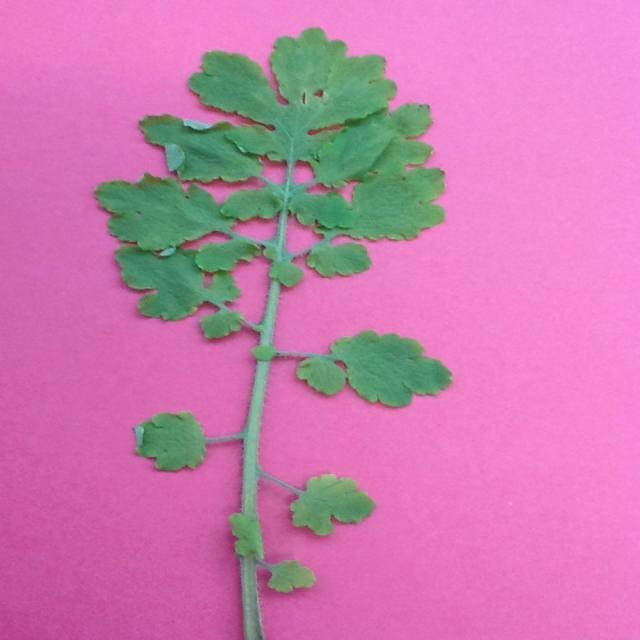foliage: (188, 22, 436, 198), (78, 164, 284, 264), (284, 153, 458, 242), (115, 245, 262, 347), (276, 332, 467, 410), (129, 110, 287, 198), (255, 462, 378, 540), (129, 410, 247, 475), (276, 234, 378, 288), (251, 553, 316, 605)
